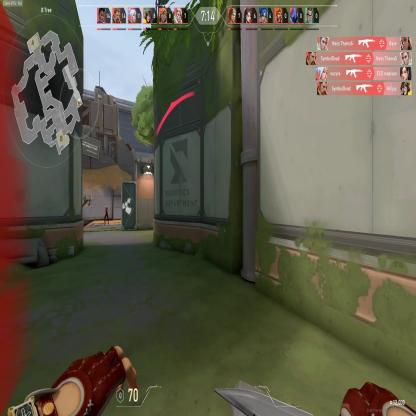enemy: (103, 204, 108, 225)
